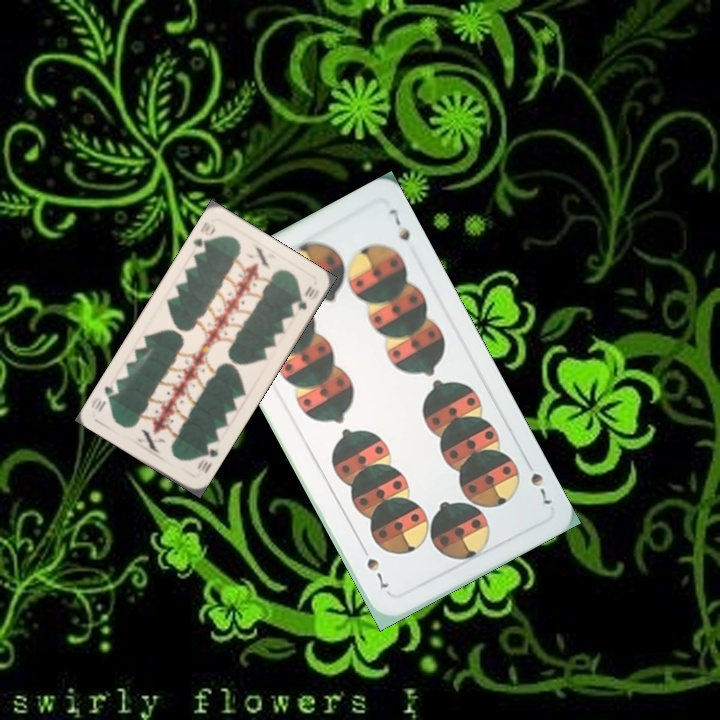G10: (188, 218, 218, 257), (193, 439, 222, 476)
S7: (526, 469, 555, 508)
